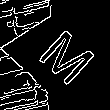M_NE: (30, 13, 98, 81)
